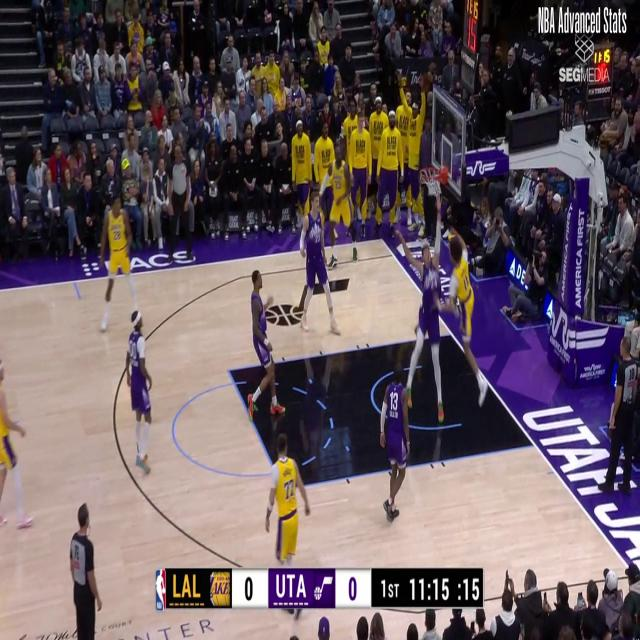judge: (598, 333, 637, 493), (66, 501, 102, 640), (167, 147, 194, 264)
player: (407, 192, 451, 427), (440, 208, 487, 411), (299, 192, 342, 340), (96, 192, 140, 331), (265, 432, 309, 566), (245, 270, 283, 421), (320, 146, 364, 270), (1, 361, 33, 529), (378, 364, 410, 520), (125, 312, 153, 472)
